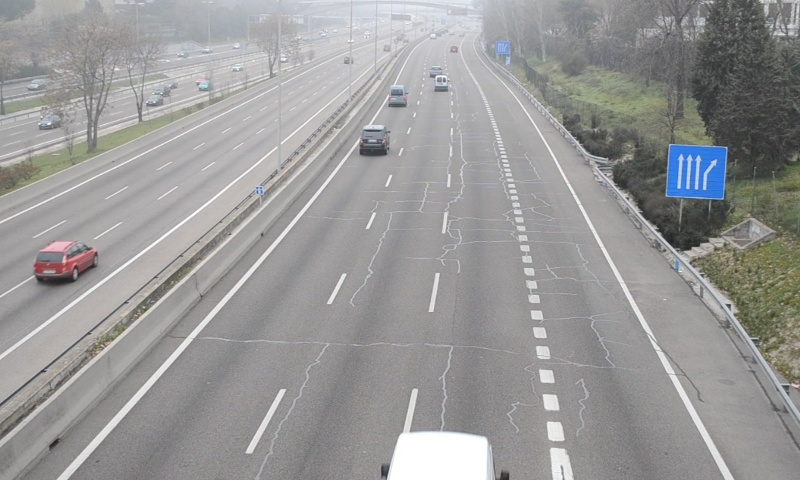car: (359, 124, 389, 153)
van: (388, 84, 408, 108)
